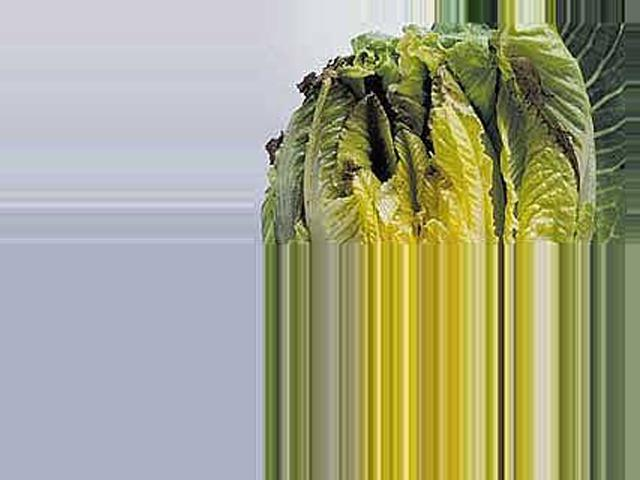lettuce: (272, 29, 624, 246)
